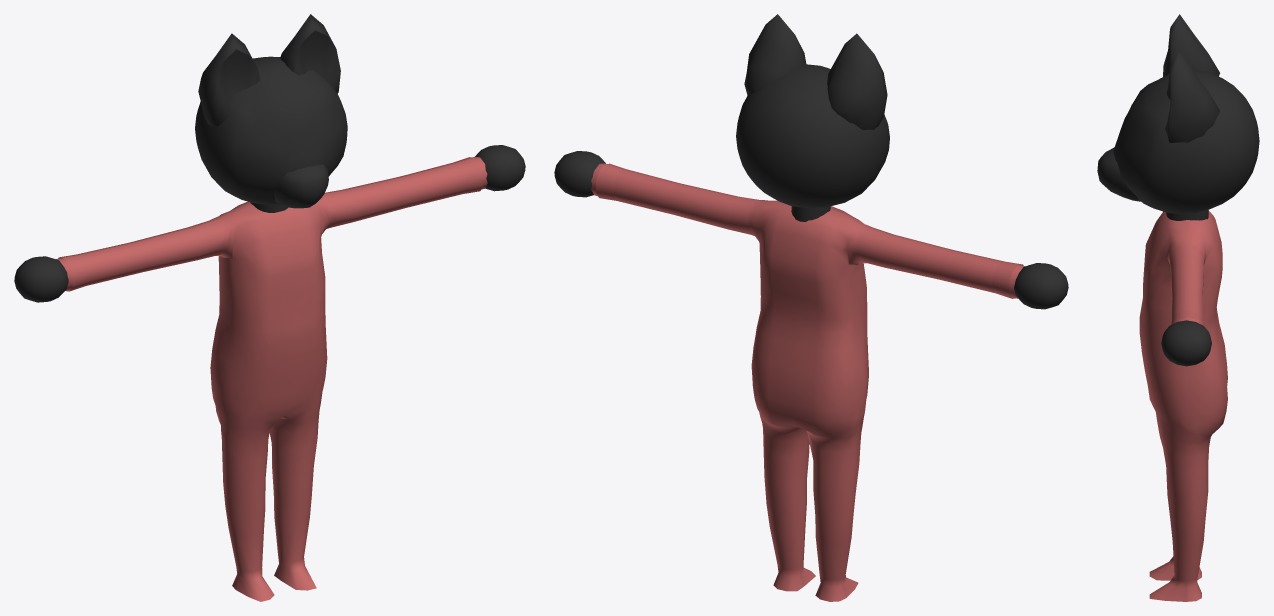
File: placeholder_littleguy.fbx
The picture shows the model from 3 angles, left to right: view 1: azimuth 30°, elevation 25°; view 2: azimuth 150°, elevation 25°; view 3: azimuth 270°, elevation 25°; orthographic projection. The views are drawn at different scales.
Visible parts, largest first — view 1: pCube10; view 2: pCube10; view 3: pCube10.
Boxes of the visible parts, box(x1,y1,x2,y2) form: pCube10: box(14, 14, 525, 601); pCube10: box(554, 14, 1068, 601); pCube10: box(1097, 14, 1259, 601).
Bounding box in the file's own units: 7.16 × 7.61 × 2.03.
